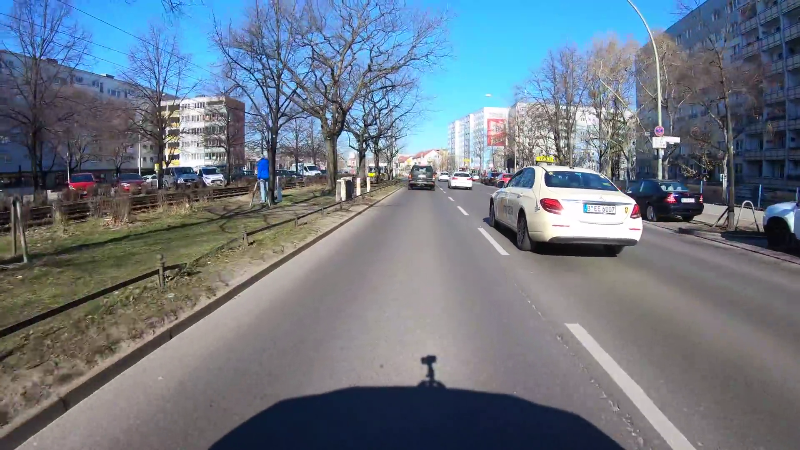Plate: (581, 202, 618, 215)
